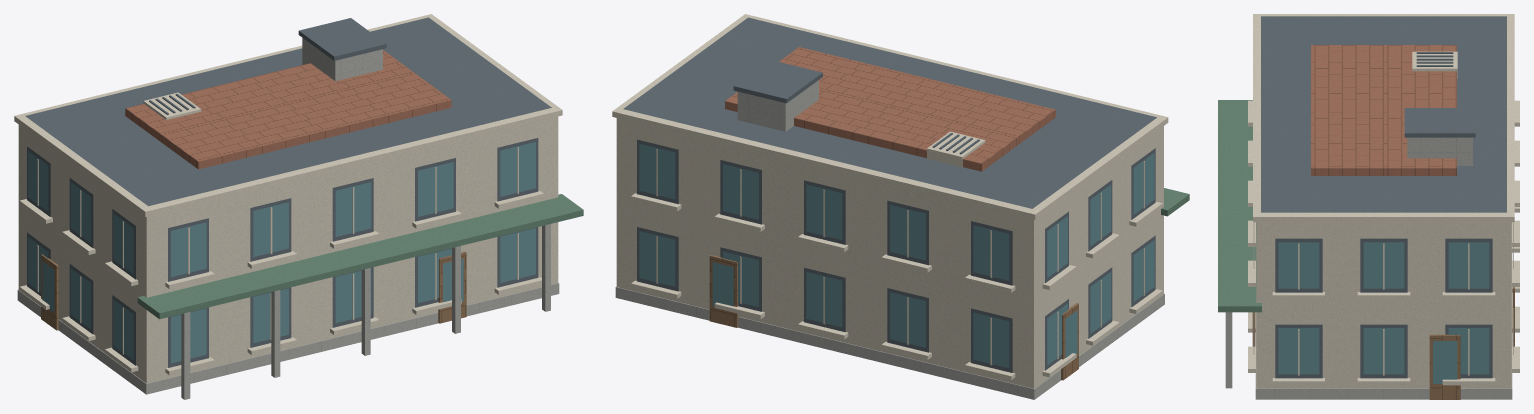
The model's file is q03-arcade.glb.
The picture shows the model from 3 angles, left to right: view 1: azimuth 30°, elevation 25°; view 2: azimuth 150°, elevation 25°; view 3: azimuth 270°, elevation 25°; orthographic projection.
Bounding box in the file's own units: 13.46 × 6.61 × 8.28.
7 materials, 6 textured.
